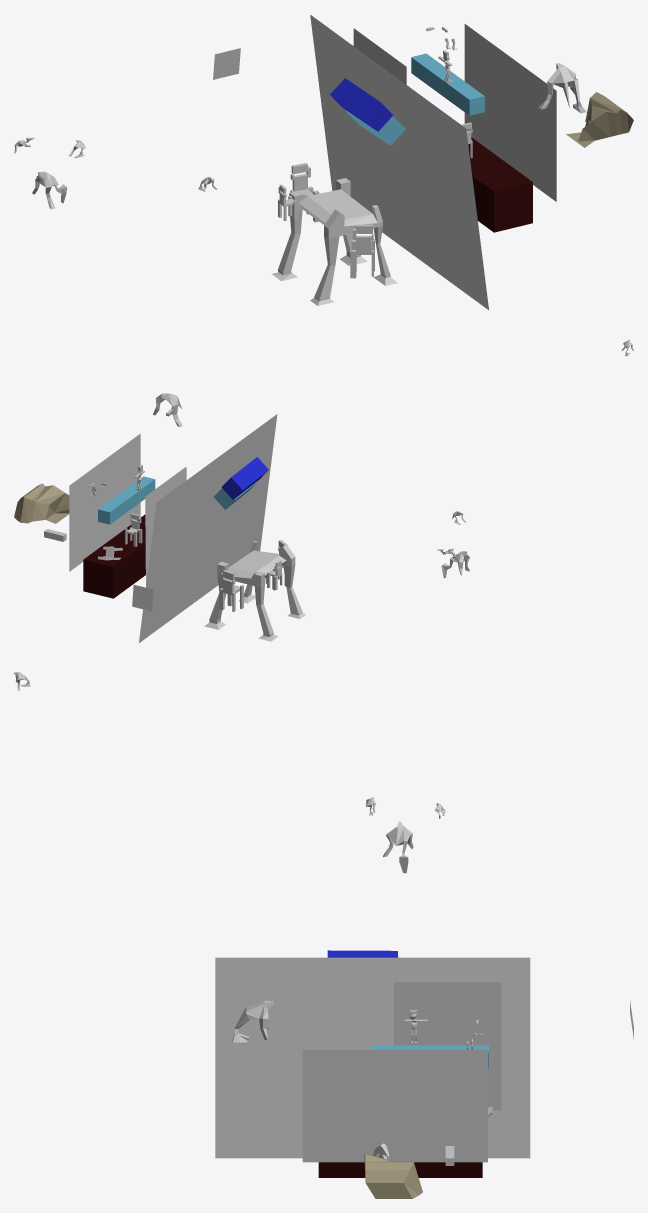
Rendered from ggj.obj.
3 renders of one model, top to bottom at view 1: azimuth 30°, elevation 25°; view 2: azimuth 150°, elevation 25°; view 3: azimuth 270°, elevation 25°, orthographic. The views are drawn at different scales.
Visible parts, largest first — view 1: Cube.013_Cube.016, Cube.005, Cube.016_Cube.019, Cube.004, Cube.009, Cube, Cube.019_Cube.022, Plane.002, Cube.012_Cube.015, Cube.015_Cube.018, Plane, Cube.020_Cube.023 (+3 smaller); view 2: Cube.013_Cube.016, Cube.005, Cube.016_Cube.019, Cube.004, Cube, Cube.009, Plane.002, Cube.019_Cube.022, Cube.010, Plane, Cube.012_Cube.015; view 3: Cube.013_Cube.016, Cube.005, Plane.002, Cube, Cube.004, Cube.012_Cube.015.
Boxes of the visible parts, x1,y1,x2,y2 form: Cube.013_Cube.016: (310,14,488,309); Cube.005: (464,24,556,201); Cube.016_Cube.019: (272,178,397,305); Cube.004: (468,137,532,232); Cube.009: (411,53,484,115); Cube: (566,92,633,147); Cube.019_Cube.022: (330,78,393,131); Plane.002: (353,28,406,84); Cube.012_Cube.015: (539,63,586,113); Cube.015_Cube.018: (350,224,374,278); Plane: (213,48,240,79); Cube.020_Cube.023: (346,110,405,145); Cube.013_Cube.016: (139,414,277,642); Cube.005: (69,433,140,571); Cube.016_Cube.019: (204,541,305,641); Cube.004: (83,514,145,598); Cube: (14,483,69,523); Cube.009: (98,476,155,524); Plane.002: (145,467,186,584); Cube.019_Cube.022: (221,457,268,499); Cube.010: (219,570,243,611); Plane: (132,585,153,611); Cube.012_Cube.015: (153,393,182,426); Cube.013_Cube.016: (215,957,530,1158); Cube.005: (302,1050,487,1162); Plane.002: (394,982,501,1110); Cube: (364,1153,422,1198); Cube.004: (318,1162,482,1177); Cube.012_Cube.015: (232,1000,273,1042).
Bounding box in the file's own units: 79.12 × 38.62 × 69.82.
